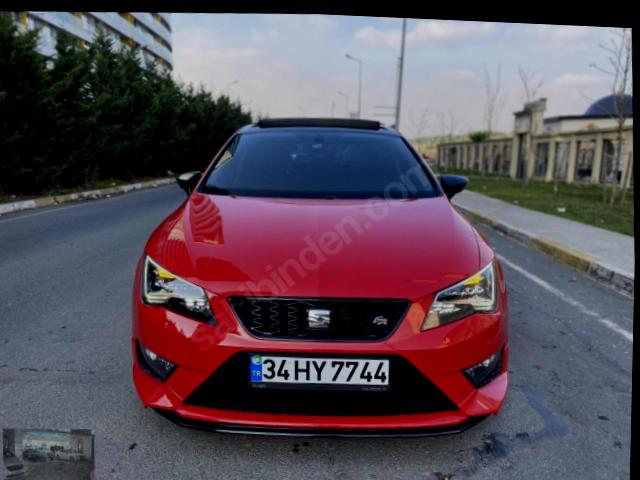plaka: (249, 356, 392, 389)
